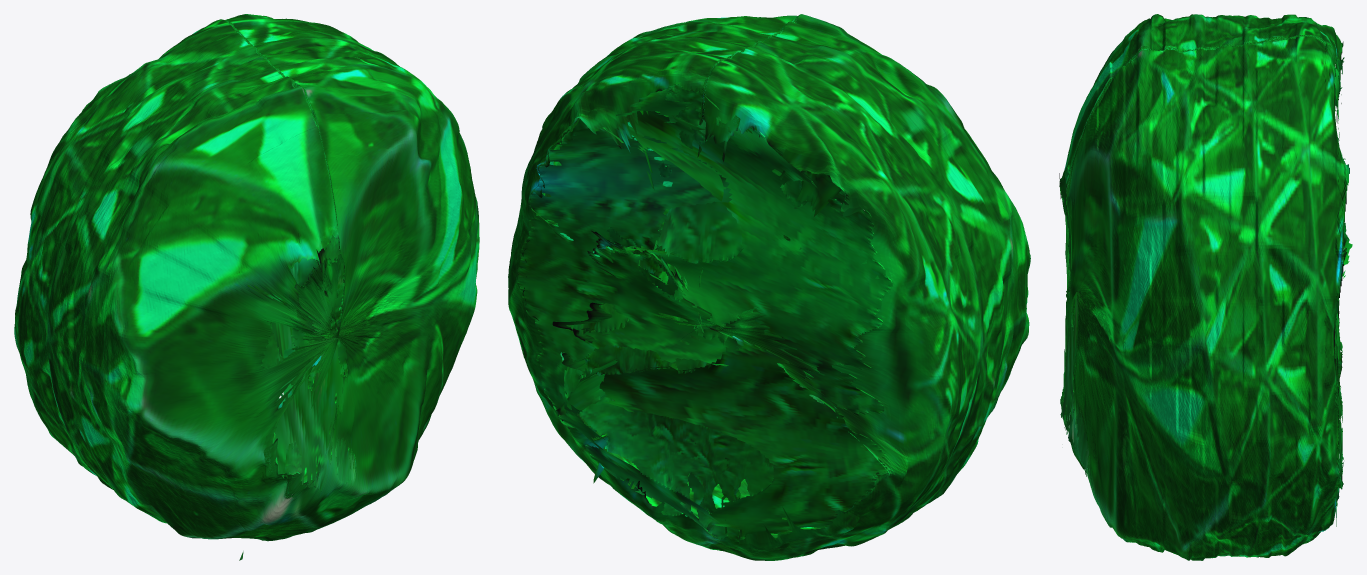
Rendered from mesh_inpaint.glb.
3 views of the same model, side by side, from view 1: azimuth 30°, elevation 25°; view 2: azimuth 150°, elevation 25°; view 3: azimuth 270°, elevation 25° (orthographic). The views are drawn at different scales.
Parts seen in each view (by area): view 1: ipn, fill; view 2: fill, ipn; view 3: ipn, fill.
Part boxes in pixels (x1,y1,x2,y2): ipn: [14, 14, 479, 560]; fill: [247, 235, 356, 491]; fill: [517, 84, 892, 541]; ipn: [508, 14, 1030, 560]; ipn: [1059, 14, 1349, 560]; fill: [1059, 56, 1352, 511].
Bounding box in the file's own units: 1.89 × 1.98 × 1.04.
2 materials, 1 textured.
